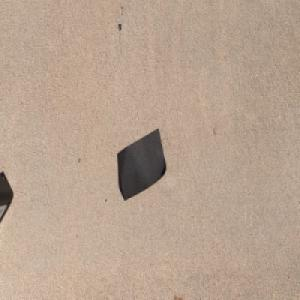PaintChip: (116, 126, 166, 201)
